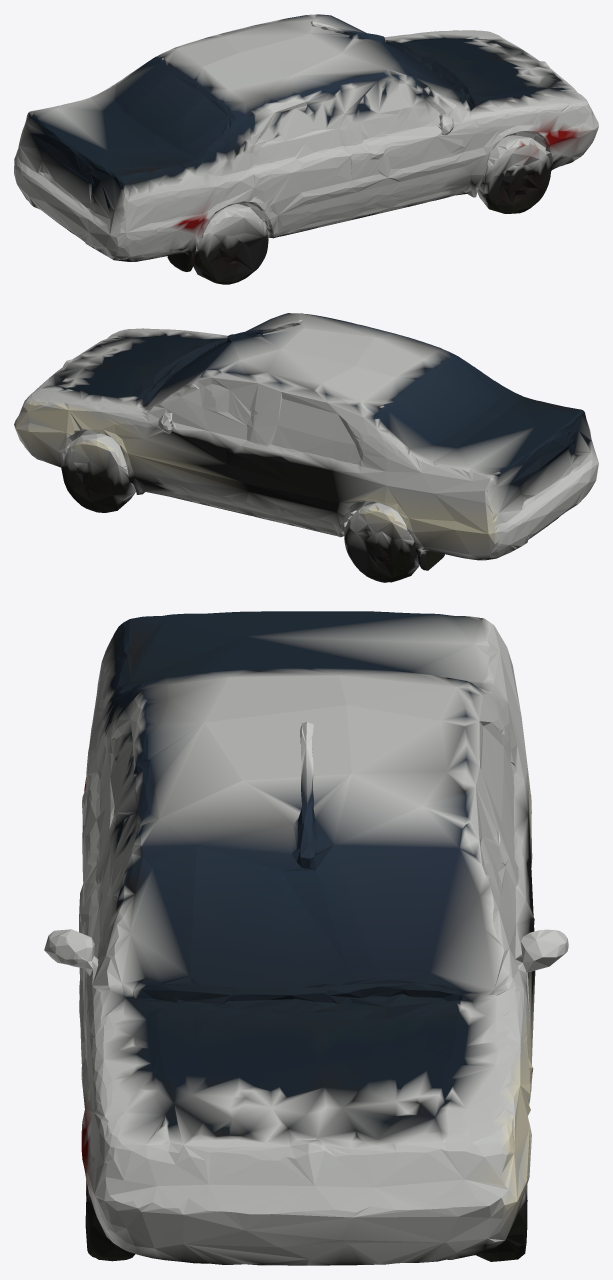
Rendered from peugeot405_lod1.glb.
The picture shows the model from 3 angles, top to bottom: view 1: azimuth 30°, elevation 25°; view 2: azimuth 150°, elevation 25°; view 3: azimuth 270°, elevation 25°; orthographic projection. The views are drawn at different scales.
Visible parts, largest first — view 1: world; view 2: world; view 3: world.
Part boxes in pixels (left/top/right/bottom): world: left=14, top=14, right=598, bottom=284; world: left=14, top=313, right=598, bottom=582; world: left=44, top=611, right=568, bottom=1265.
Bounding box in the file's own units: 445 × 163 × 200.
